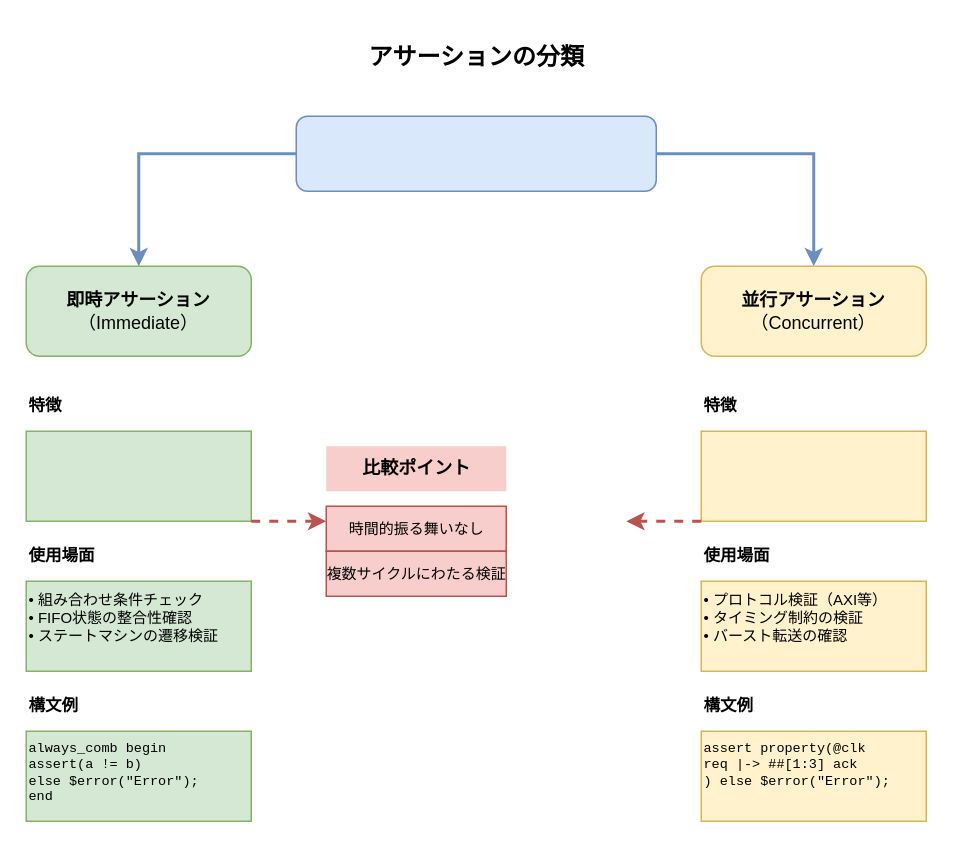
Some shapes in this 953 by 848 pixel diagram are drawn without their labels. Here are the shapes that lost their labels. From the top down, the box of each, then its label:
(295, 115, 656, 191): SystemVerilog Assertions
(25, 430, 251, 521): • 手続きブロック内で評価 • 単一時刻（時間的振る舞いなし） • assert(条件) 形式
(700, 430, 926, 521): • クロックに同期して評価 • 複数サイクルの振る舞い検証 • assert property(条件) 形式
